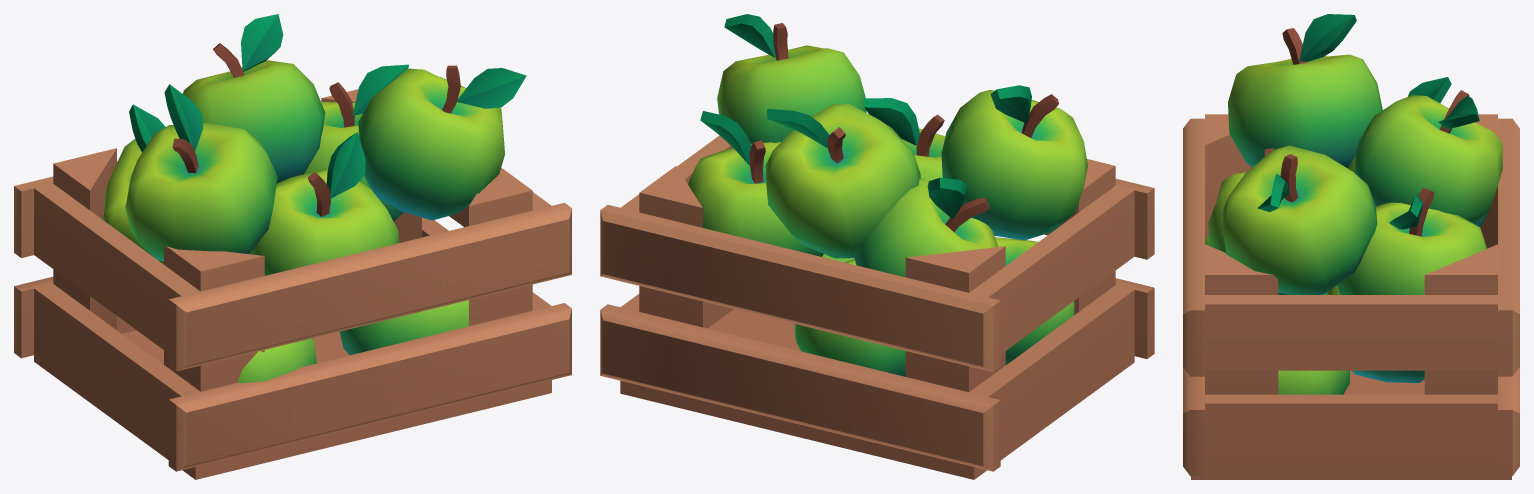
The model's file is Food_Crate_Large_Apples.fbx.
The picture shows the model from 3 angles, left to right: view 1: azimuth 30°, elevation 25°; view 2: azimuth 150°, elevation 25°; view 3: azimuth 270°, elevation 25°; orthographic projection.
Visible parts, largest first — view 1: Food_Crate_Large_Apples; view 2: Food_Crate_Large_Apples; view 3: Food_Crate_Large_Apples.
Boxes of the visible parts, x1=… form: Food_Crate_Large_Apples: x1=14, y1=14, x2=571, y2=479; Food_Crate_Large_Apples: x1=600, y1=14, x2=1154, y2=479; Food_Crate_Large_Apples: x1=1183, y1=14, x2=1519, y2=479.
Bounding box in the file's own units: 1.03 × 0.802 × 0.7657.
